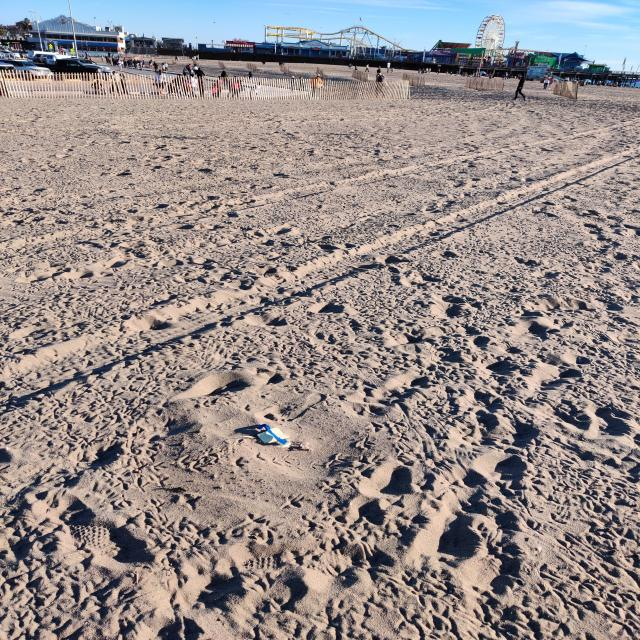litter: (255, 425, 292, 445)
